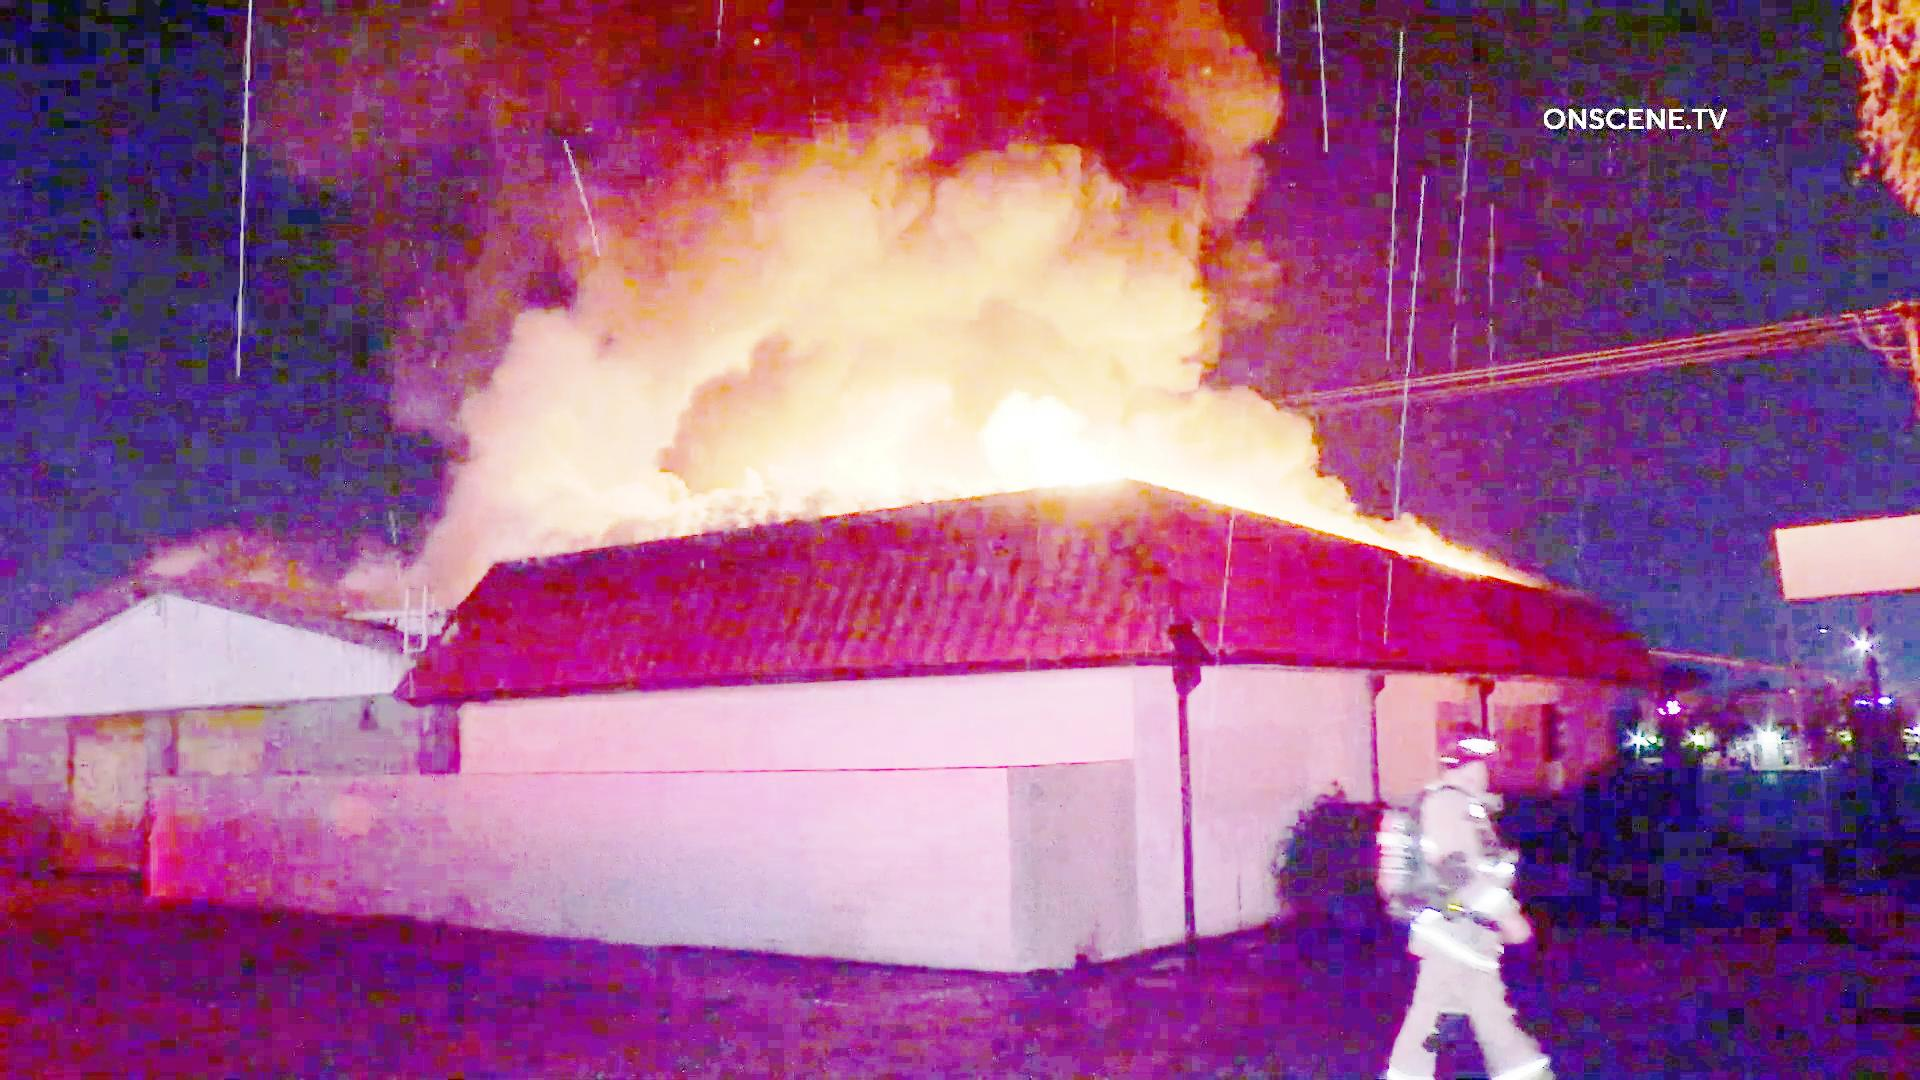fire: (831, 373, 1102, 498)
smoke: (618, 61, 1193, 347)
